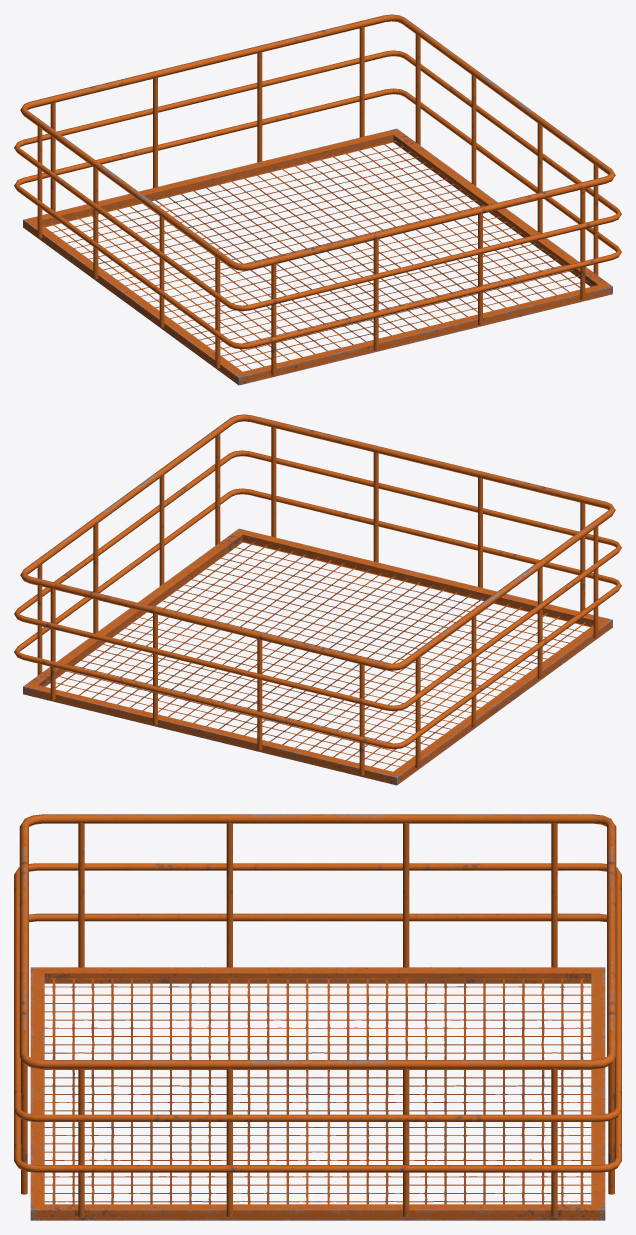
File: Platform_05.fbx
The picture shows the model from 3 angles, top to bottom: view 1: azimuth 30°, elevation 25°; view 2: azimuth 150°, elevation 25°; view 3: azimuth 270°, elevation 25°; orthographic projection. The views are drawn at different scales.
Parts seen in each view (by area): view 1: Platform_05_LOD0; view 2: Platform_05_LOD0; view 3: Platform_05_LOD0.
Part boxes in pixels (left/top/right/bottom): Platform_05_LOD0: left=14, top=14, right=621, bottom=385; Platform_05_LOD0: left=14, top=414, right=621, bottom=785; Platform_05_LOD0: left=14, top=814, right=621, bottom=1220.
Size of what is drawn, in the model's own units: 3.23 by 0.9516 by 3.26.
